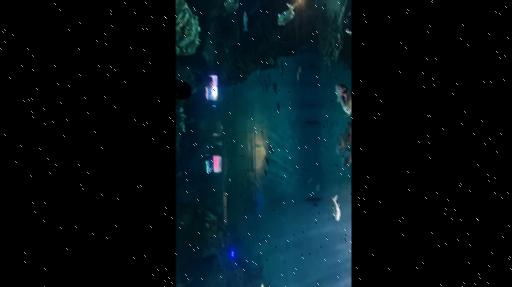Fish: (335, 84, 351, 116), (278, 3, 297, 25), (331, 195, 339, 220), (248, 0, 259, 14), (345, 122, 351, 146), (343, 151, 351, 168), (337, 134, 344, 153), (243, 11, 247, 31), (183, 278, 192, 286), (268, 144, 273, 155), (272, 83, 276, 94), (297, 66, 300, 80), (263, 156, 268, 164), (262, 167, 266, 176), (268, 73, 271, 83), (307, 198, 321, 200), (308, 177, 312, 183), (269, 56, 272, 64), (271, 57, 274, 65), (280, 62, 282, 74), (345, 30, 351, 34), (265, 80, 267, 90), (176, 172, 181, 176), (316, 184, 319, 190), (258, 66, 260, 75), (276, 61, 278, 69), (313, 202, 316, 206), (278, 102, 279, 111), (262, 83, 263, 90)
